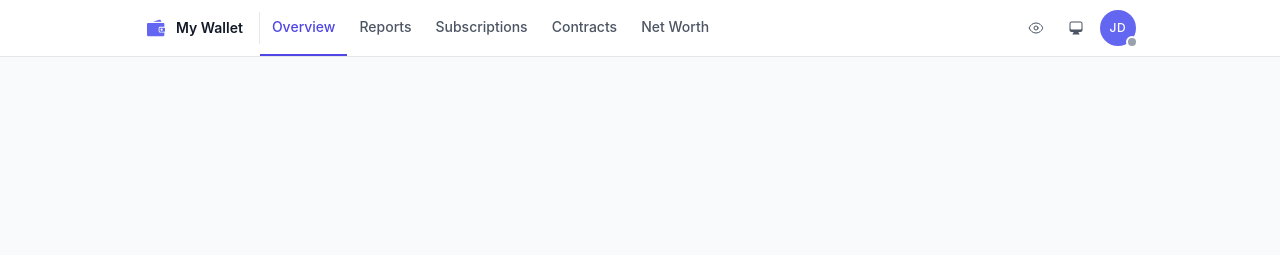
NavBar › shows dropdown with Profile and Log out on avatar click
Expected: the link "Overview" is shown, 260,0 -> 347,56
Click the button with aria-label "User menu".
click(1118, 28)  # box 1100,10 -> 1136,46
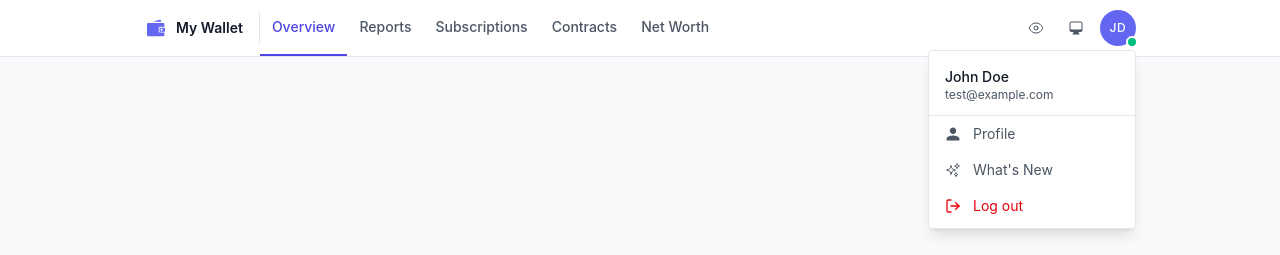
Expected: the button "Profile" is shown, 929,116 -> 1135,152
Expected: the button "Log out" is shown, 929,188 -> 1135,224
